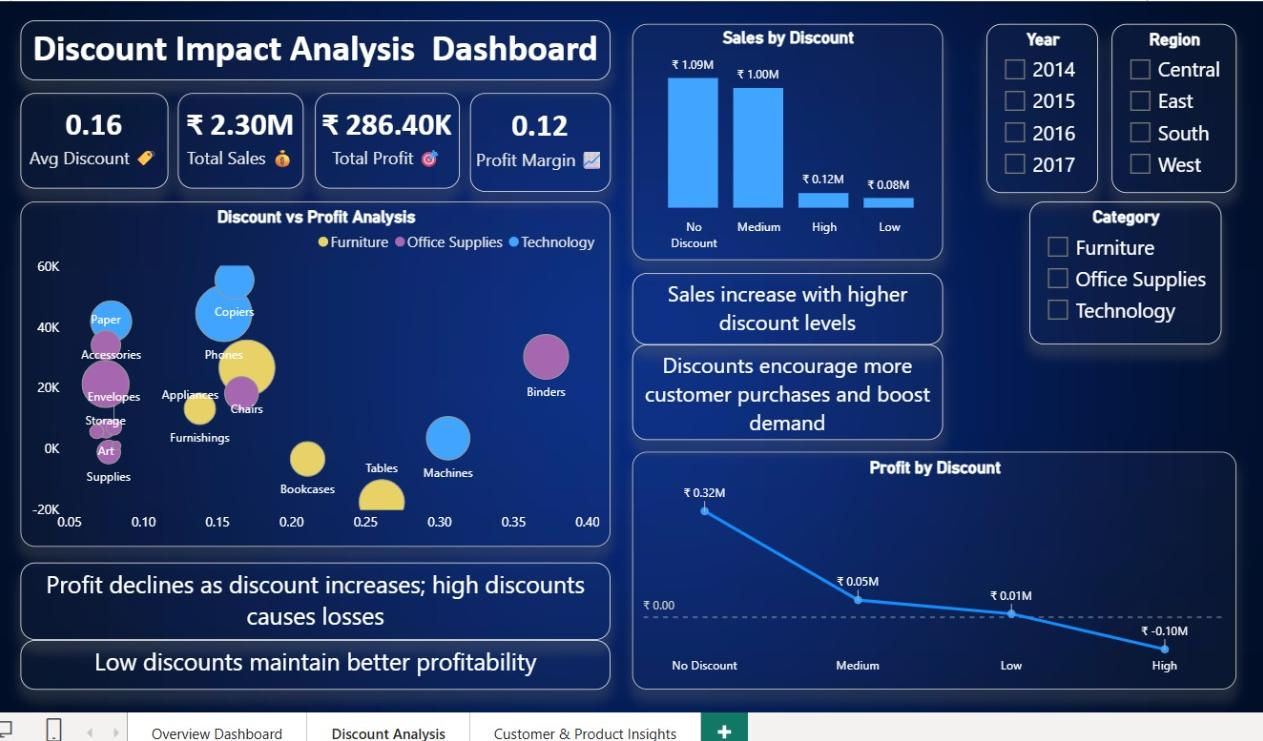

Layout of this report page (visuals, bound fields, positions):
{"tool":"powerbi","page":{"name":"Discount Analysis","canvas":[1280,720],"ordinal":1},"visuals":[{"type":"card","fields":{"Values":["Customer Table.Total Sales"]},"box":[181.2,92.8,127.5,97.1],"z":0},{"type":"card","fields":{"Values":["Customer Table.Avg Discount"]},"box":[21.7,92.8,149.3,97.1],"z":1000},{"type":"card","fields":{"Values":["Customer Table.Profit Margin"]},"box":[476.8,92.8,142,100],"z":2000},{"type":"card","fields":{"Values":["Customer Table.Total Profit"]},"box":[320.3,92.8,146.4,97.1],"z":3000},{"type":"textbox","box":[21.7,18.8,597.1,60.9],"z":4000},{"type":"slicer","title":"Year ","fields":{"Values":["Sample - Superstore.Year"]},"box":[998.6,23.2,113,171],"z":5000},{"type":"slicer","title":"Region","fields":{"Values":["Sample - Superstore.Region"]},"box":[1126.1,23.2,126.1,171],"z":6000},{"type":"slicer","title":"Category","fields":{"Values":["Product Table.Category"]},"box":[1042,202.9,194.2,144.9],"z":7000},{"type":"scatterChart","title":"Discount vs Profit Analysis","fields":{"X":["Avg(Sample - Superstore.Discount)"],"Y":["Sum(Sample - Superstore.Profit)"],"Size":["Sum(Sample - Superstore.Sales)"],"Series":["Sample - Superstore.Category"],"Category":["Sample - Superstore.Sub-Category"]},"box":[21.7,202.9,597.1,349.3],"z":8000},{"type":"lineChart","title":"Profit by Discount","fields":{"Category":["Sample - Superstore.Discount Category"],"Y":["Customer Table.Total Profit"]},"box":[640.6,456.5,611.6,240.6],"z":9000},{"type":"textbox","box":[21.7,568.1,597.1,78.3],"z":10000},{"type":"textbox","box":[21.7,646.4,597.1,50.7],"z":11000},{"type":"textbox","box":[640.6,275.4,314.5,72.5],"z":12000},{"type":"textbox","box":[640.6,347.8,314.5,97.1],"z":13000},{"type":"clusteredColumnChart","title":"Sales by Discount","fields":{"Category":["Sample - Superstore.Discount Category"],"Y":["Customer Table.Total Sales"]},"box":[640.6,23.2,314.5,239.1],"z":14000}]}

Visuals, with their boxes on the page's 1280x720 design canvas (x1, y1, x2, y2). These are canvas units, not pixel positions in the 1263x741 screenshot, which may show the page scaled, cropped or inside an application window:
card - Customer Table.Total Sales: <region>181, 93, 309, 190</region>
card - Customer Table.Avg Discount: <region>22, 93, 171, 190</region>
card - Customer Table.Profit Margin: <region>477, 93, 619, 193</region>
card - Customer Table.Total Profit: <region>320, 93, 467, 190</region>
textbox: <region>22, 19, 619, 80</region>
"Year " slicer: <region>999, 23, 1112, 194</region>
"Region" slicer: <region>1126, 23, 1252, 194</region>
"Category" slicer: <region>1042, 203, 1236, 348</region>
"Discount vs Profit Analysis" scatterChart: <region>22, 203, 619, 552</region>
"Profit by Discount" lineChart: <region>641, 456, 1252, 697</region>
textbox: <region>22, 568, 619, 646</region>
textbox: <region>22, 646, 619, 697</region>
textbox: <region>641, 275, 955, 348</region>
textbox: <region>641, 348, 955, 445</region>
"Sales by Discount" clusteredColumnChart: <region>641, 23, 955, 262</region>
